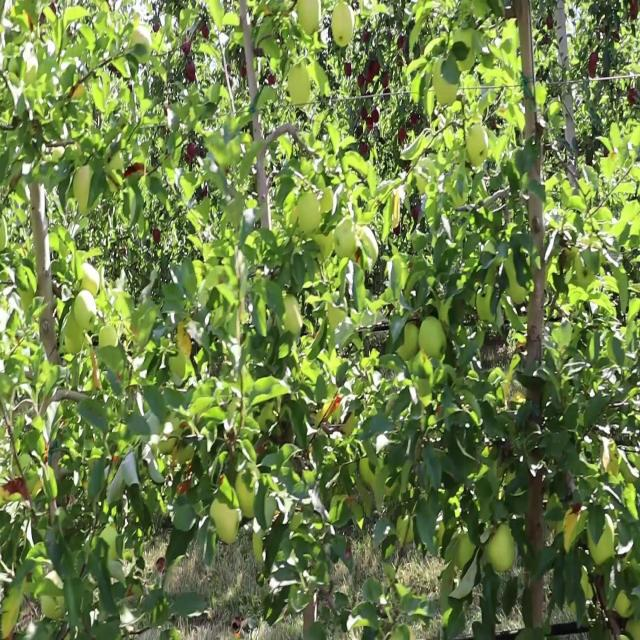apple: (488, 526, 517, 576), (212, 504, 240, 548), (288, 63, 312, 108), (436, 63, 460, 107), (72, 163, 93, 213), (236, 469, 257, 519), (332, 7, 355, 50), (564, 504, 583, 553), (296, 0, 321, 36), (468, 127, 489, 169), (64, 319, 86, 359), (76, 291, 96, 332), (80, 263, 100, 299), (132, 28, 152, 64), (176, 319, 193, 361), (8, 476, 31, 501), (324, 398, 342, 420), (192, 263, 205, 288), (304, 604, 316, 631), (92, 362, 103, 391), (588, 56, 600, 78), (444, 127, 456, 149), (200, 21, 211, 43), (368, 63, 380, 82), (188, 142, 197, 164), (188, 63, 196, 85), (184, 35, 192, 57), (632, 0, 640, 20), (132, 14, 142, 30), (152, 227, 160, 244), (628, 92, 637, 107), (344, 63, 352, 78), (548, 14, 554, 28), (360, 78, 367, 87)
